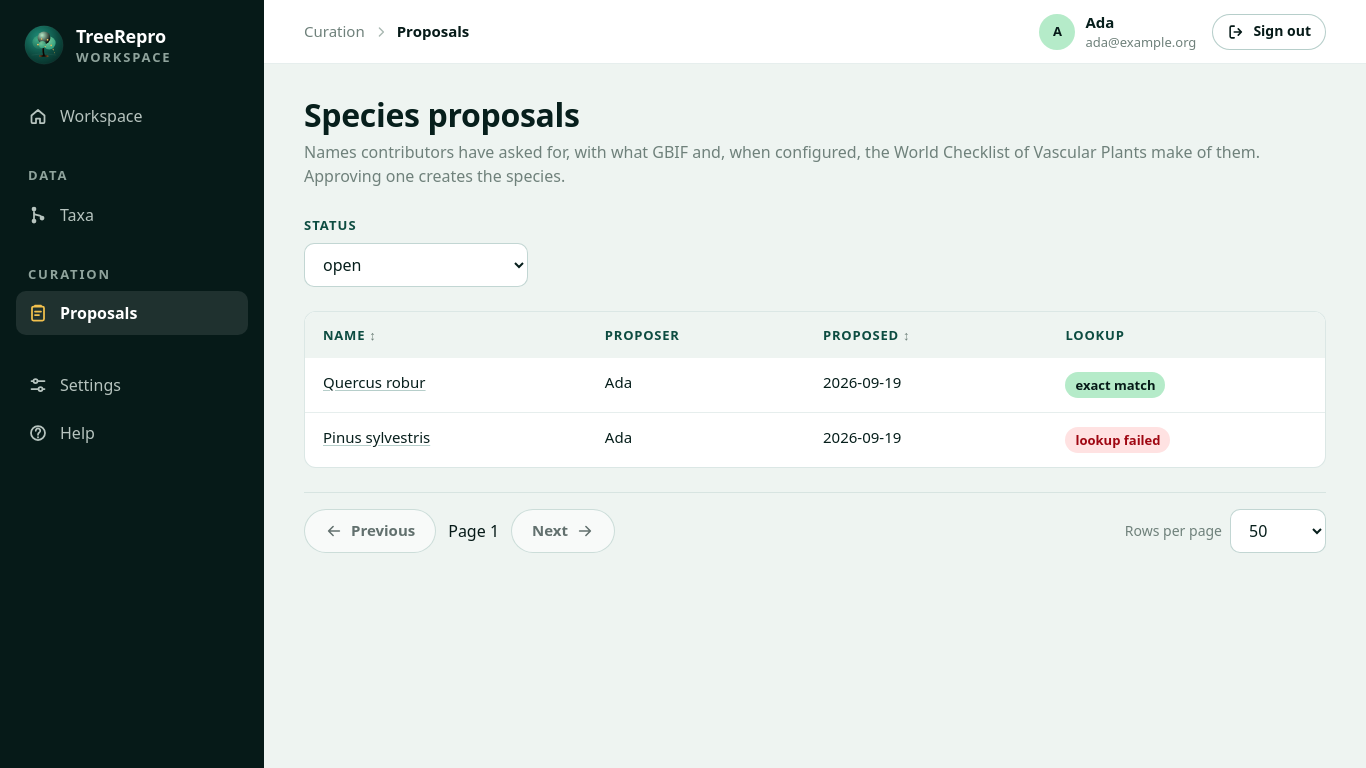
Test case: RFC-75 R3 ProposalsPage › opens the drawer on a row and closes it after a decision, refreshing the queue
Click the button "Quercus robur" at (374, 383), box 323,372 -> 426,394
(page scrolled)
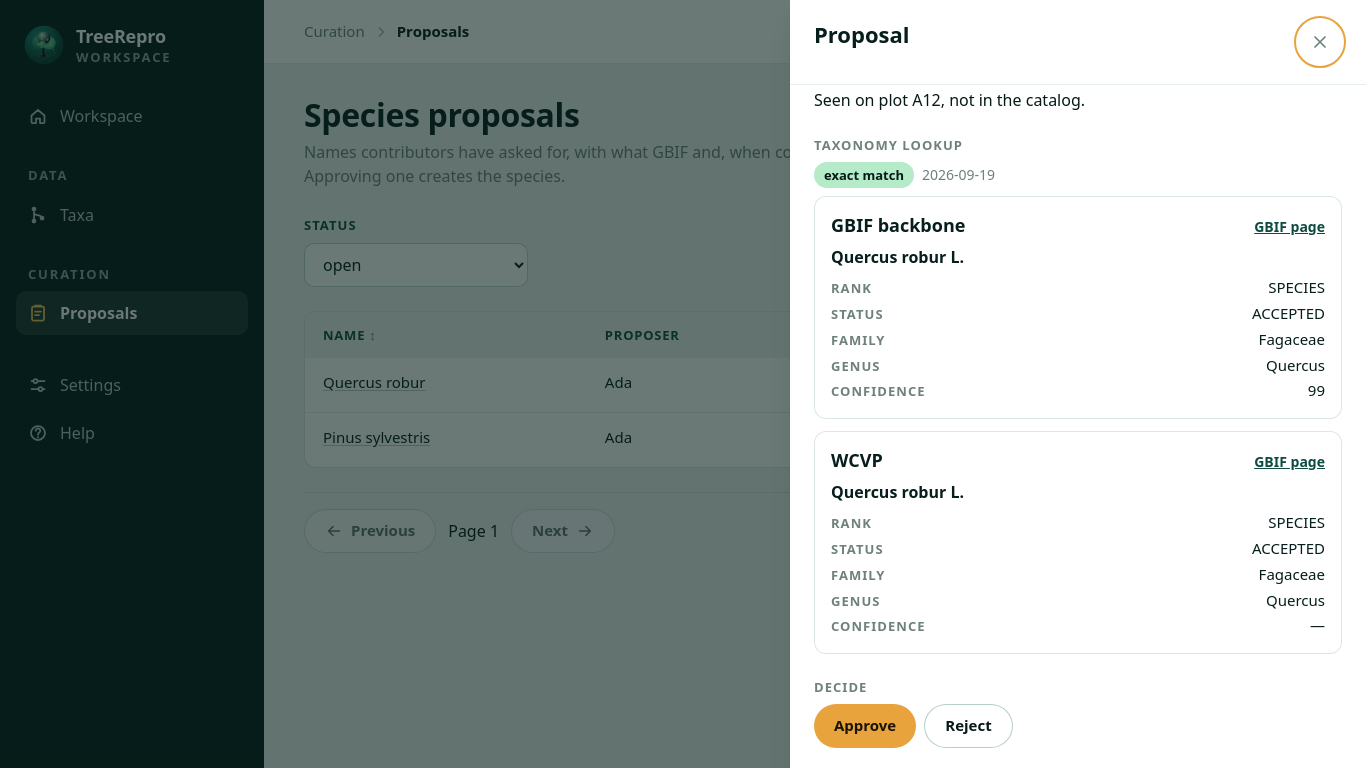
Click the button "Reject" at (968, 726), box 924,704 -> 1013,748
(page scrolled)
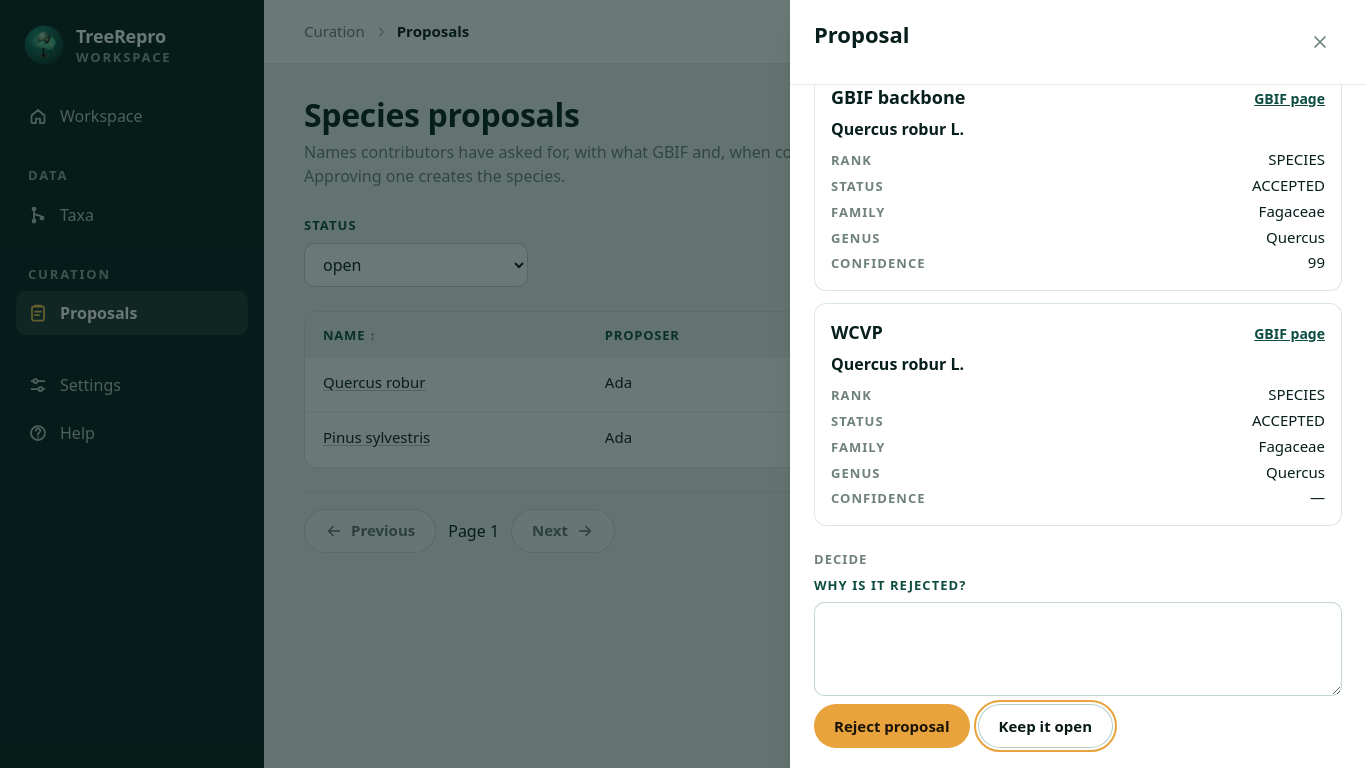
Type "No such taxon." into the text box labelled "Why is it rejected?" at (1078, 649), box 814,602 -> 1342,696
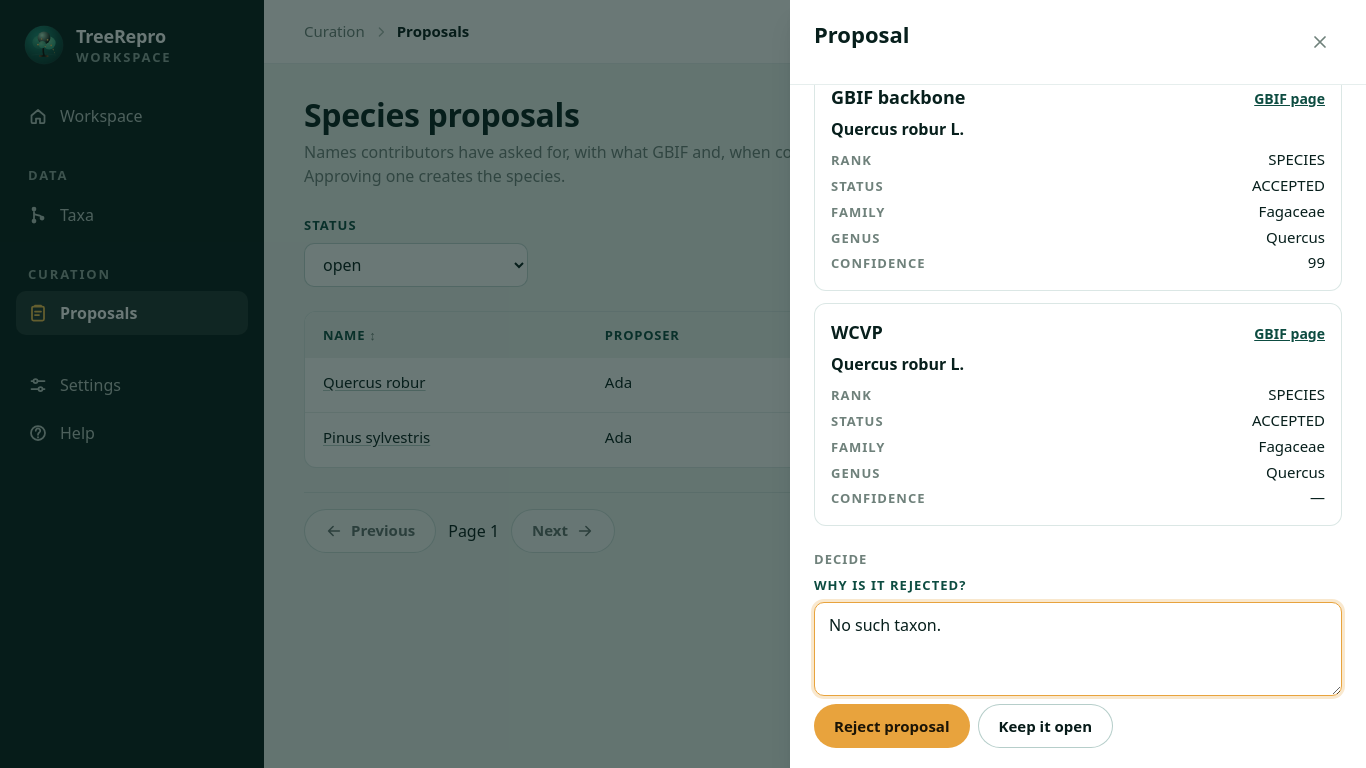
Click the button "Reject proposal" at (892, 726), box 814,704 -> 970,748
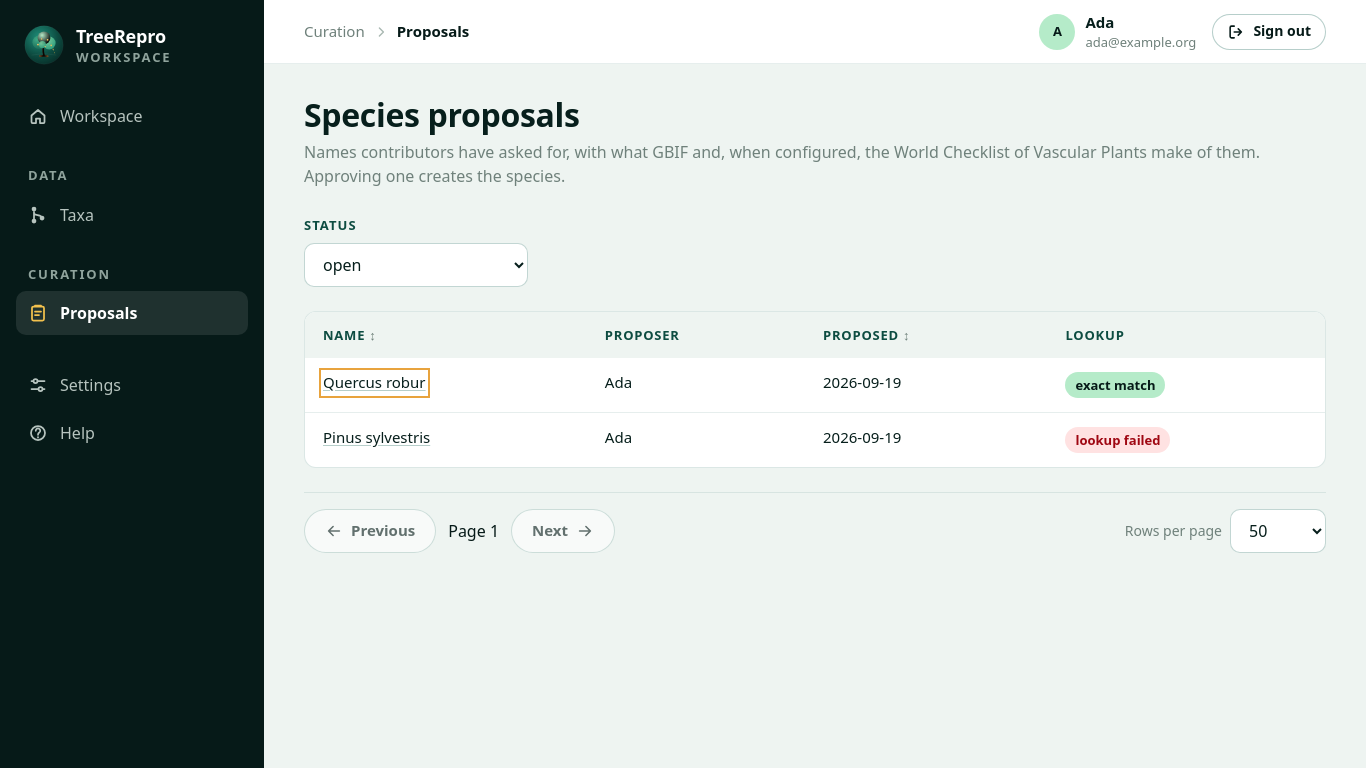
Check: the dialog is gone
